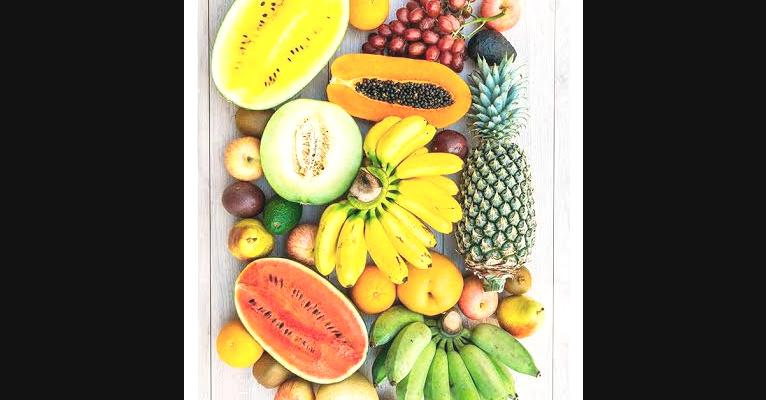chuoi: (311, 114, 470, 290)
